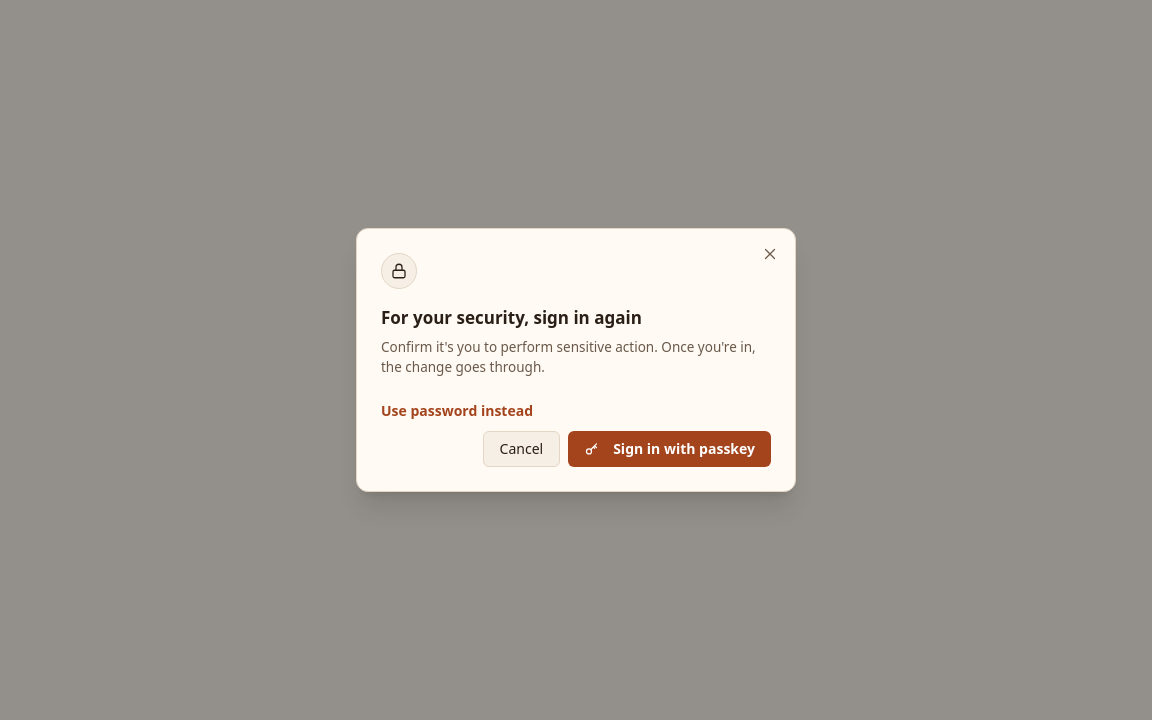
ReauthDialog › displays error banner when passkey authentication fails
Click the button "Sign in with passkey" at (670, 449), box left=568, top=431, right=771, bottom=467
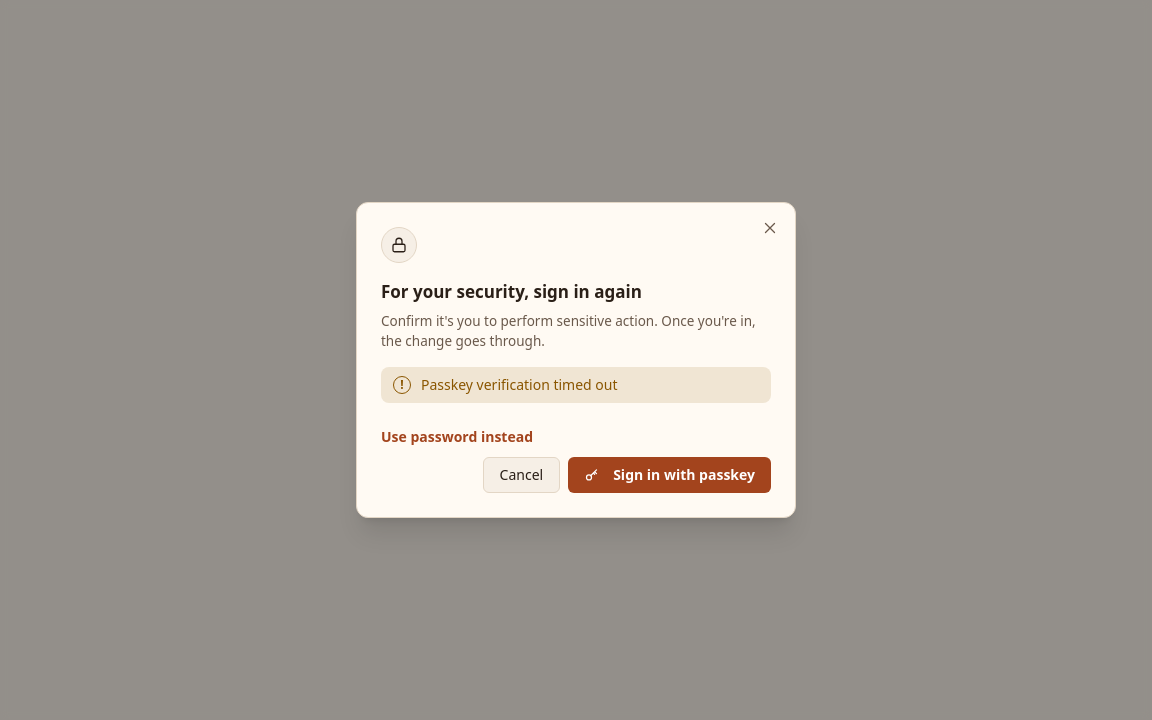
Result: the message "! Passkey verification timed out" is shown at left=381, top=367, right=771, bottom=403
Result: the text "Passkey verification timed out" is shown at left=421, top=375, right=618, bottom=395
